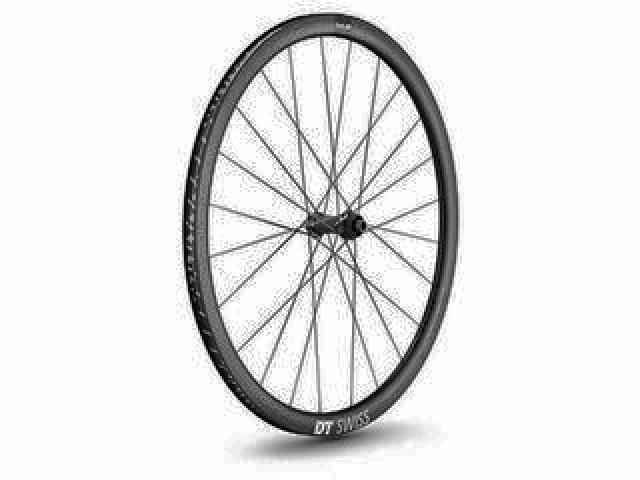wheel: (178, 7, 462, 443)
